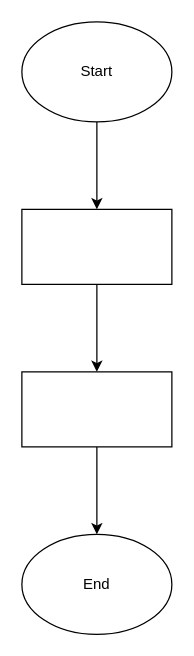
Some shapes in this 194 by 656 pixel diagram are drawn without their labels. The shapes that lost their labels are listed below. From the top down, each one's centre as x and y in pixels, then its label:
At (x=96, y=246): "Login flow".
At (x=96, y=409): "CV scanning flow".
